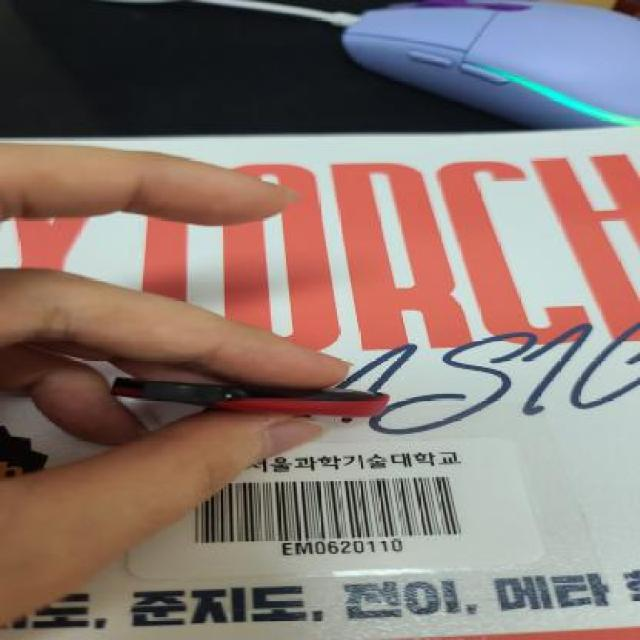Flashdisk: (103, 375, 392, 419)
